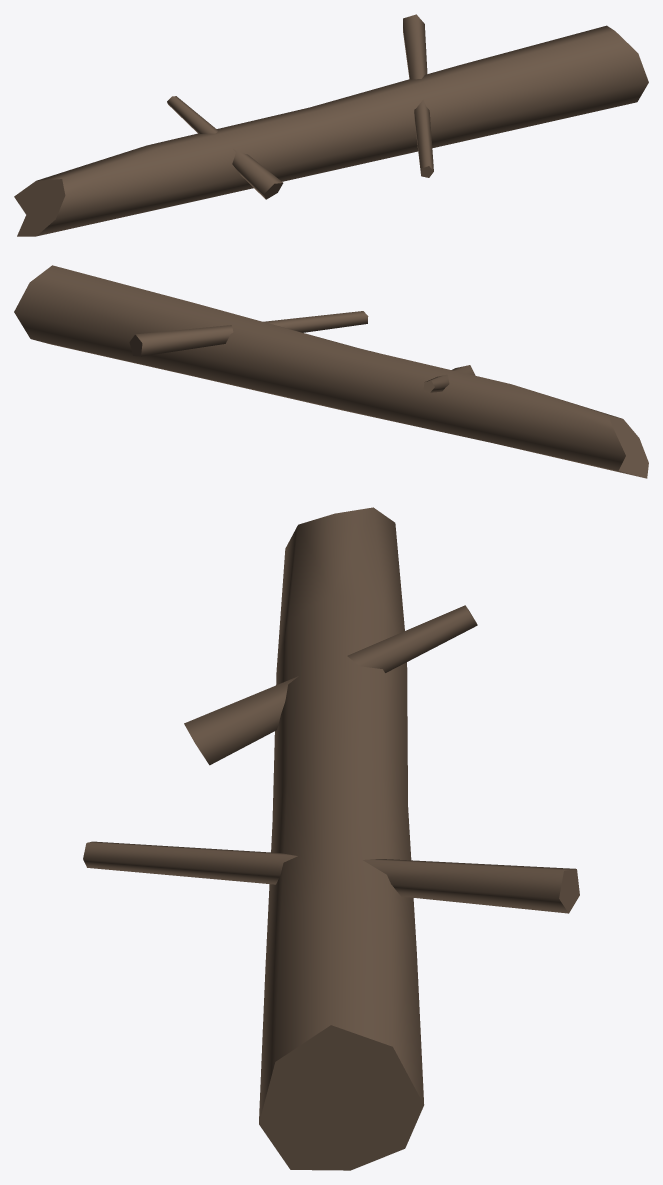
The model's file is driftwood-1.glb.
3 renders of one model, top to bottom at view 1: azimuth 30°, elevation 25°; view 2: azimuth 150°, elevation 25°; view 3: azimuth 270°, elevation 25°, orthographic. The views are drawn at different scales.
Visible parts, largest first — view 1: driftwood-1; view 2: driftwood-1; view 3: driftwood-1.
Part boxes in pixels (left/top/right/bottom): driftwood-1: left=14, top=14, right=648, bottom=236; driftwood-1: left=14, top=265, right=648, bottom=478; driftwood-1: left=83, top=507, right=579, bottom=1170.
Bounding box in the file's own units: 6.52 × 0.8593 × 2.3.
